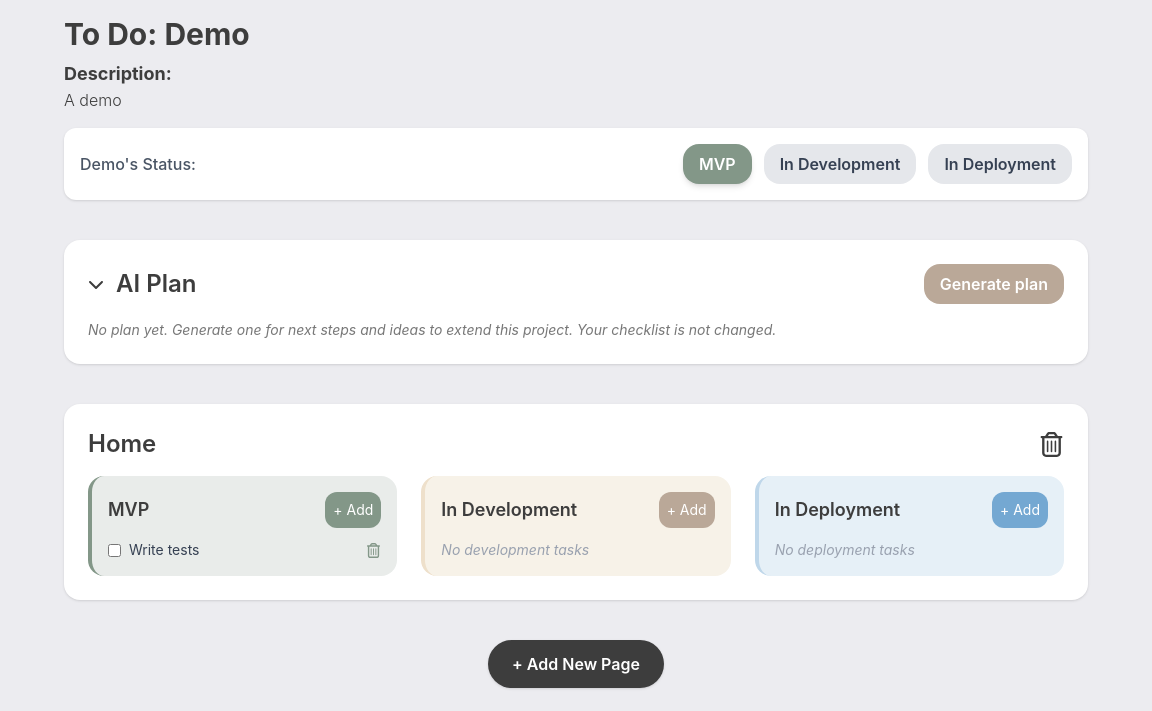
Test: ProjectDetail › AI plan › a failed generation shows the server's message
Expected: the text "Write tests" is shown, [129,540,200,560]
Click the button "Generate plan": (994, 284) [924,264,1064,304]
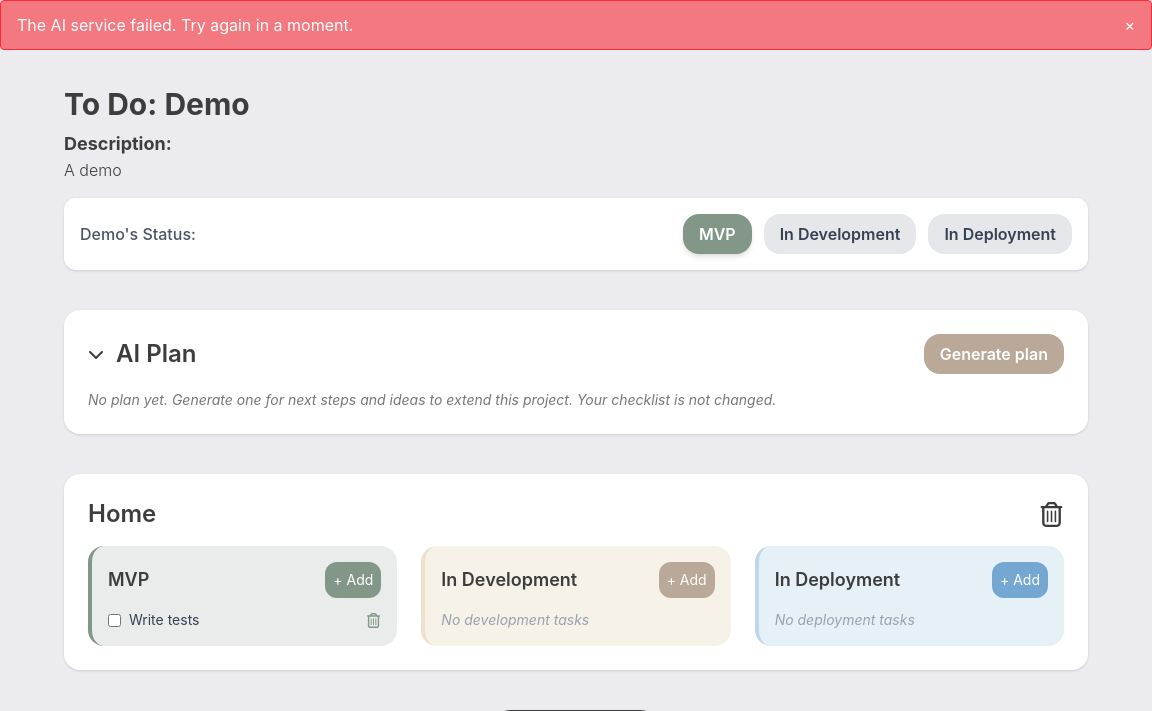
Expected: the button "Generate plan" is enabled, [924,334,1064,374]
Now the text "The AI service failed. Try again in a moment." is shown, box [17,15,353,35]
